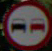No overtake: (2, 5, 47, 43)
